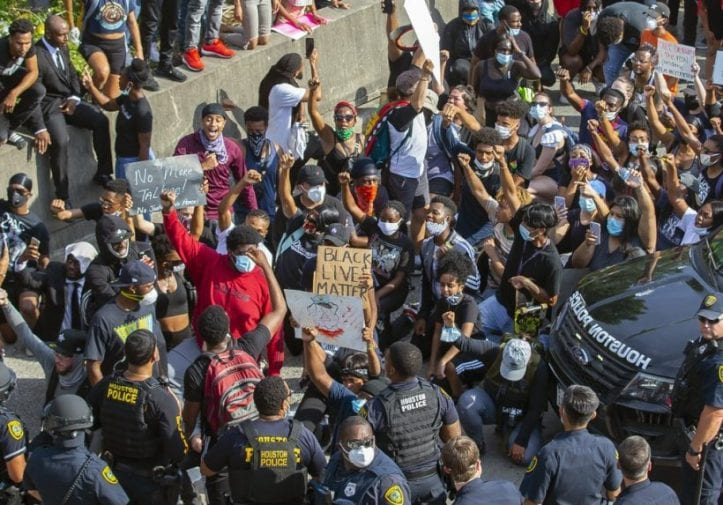mask_weared_incorrect: (197, 112, 229, 146), (436, 271, 468, 303), (424, 202, 454, 235), (332, 103, 356, 136), (106, 233, 132, 261), (99, 193, 125, 218), (597, 95, 621, 122), (473, 145, 495, 173), (691, 207, 713, 234), (116, 72, 133, 96)
with_mask: (340, 425, 376, 470), (229, 243, 259, 269), (568, 145, 594, 173), (607, 209, 632, 238), (381, 211, 406, 236), (529, 96, 554, 121), (628, 132, 653, 157), (496, 116, 521, 139), (356, 172, 382, 194), (9, 184, 29, 207)
without_mask: (697, 313, 722, 341), (46, 25, 72, 48), (11, 32, 32, 57), (65, 255, 81, 277)
